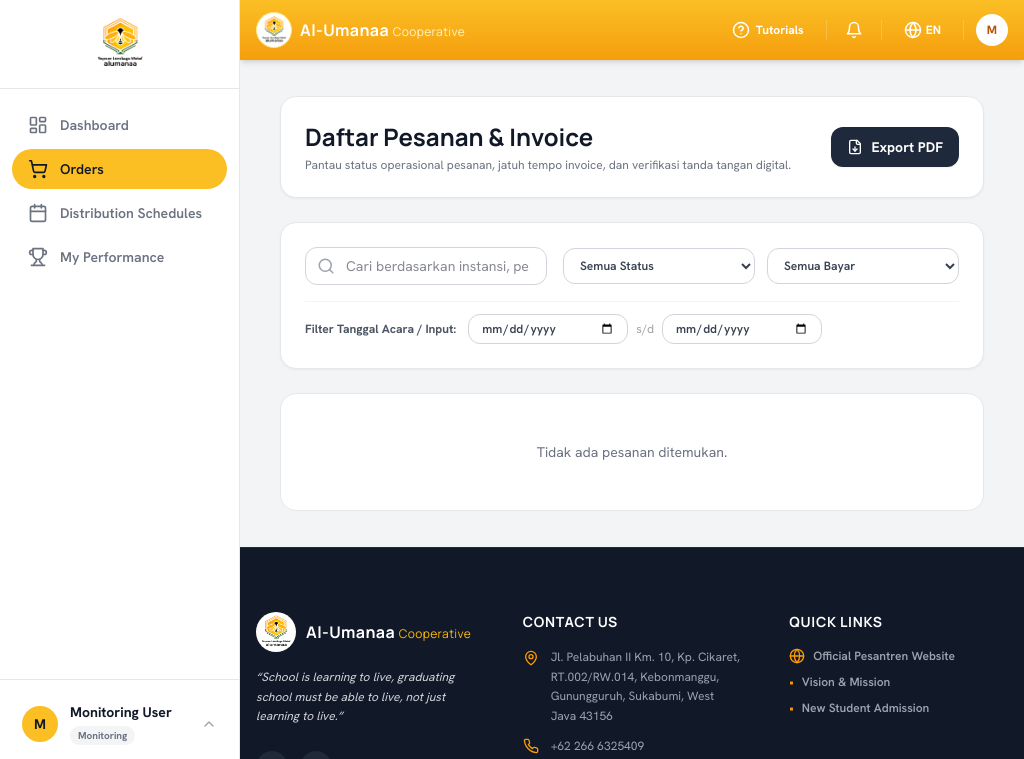
Test case: Authentication UI Features › Role-Based Access Control (RBAC) Flow › should filter navigation links for monitoring role
Expected: the link to "/admin/orders" is shown, [12,149,227,189]
Click the button "M".
click(992, 30)  # box [976,14,1008,46]
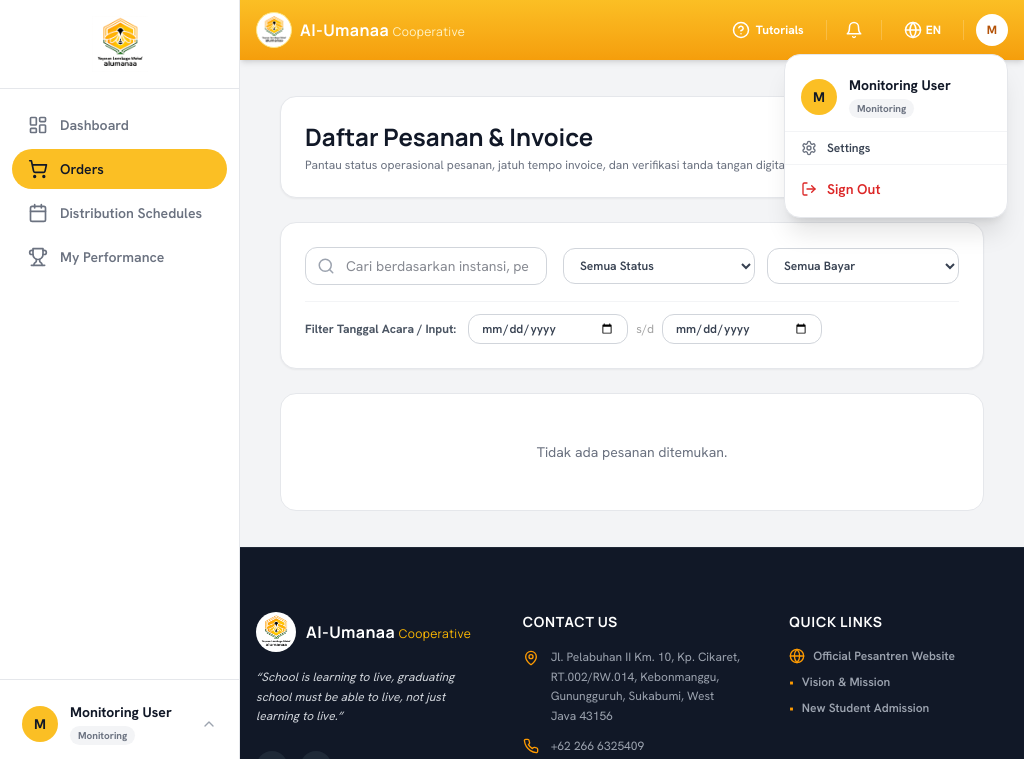
Expected: the link to "/admin/dashboard" is shown, [92,16,148,72]
Expected: the link to "/admin/settings" is shown, [785,132,1007,165]
